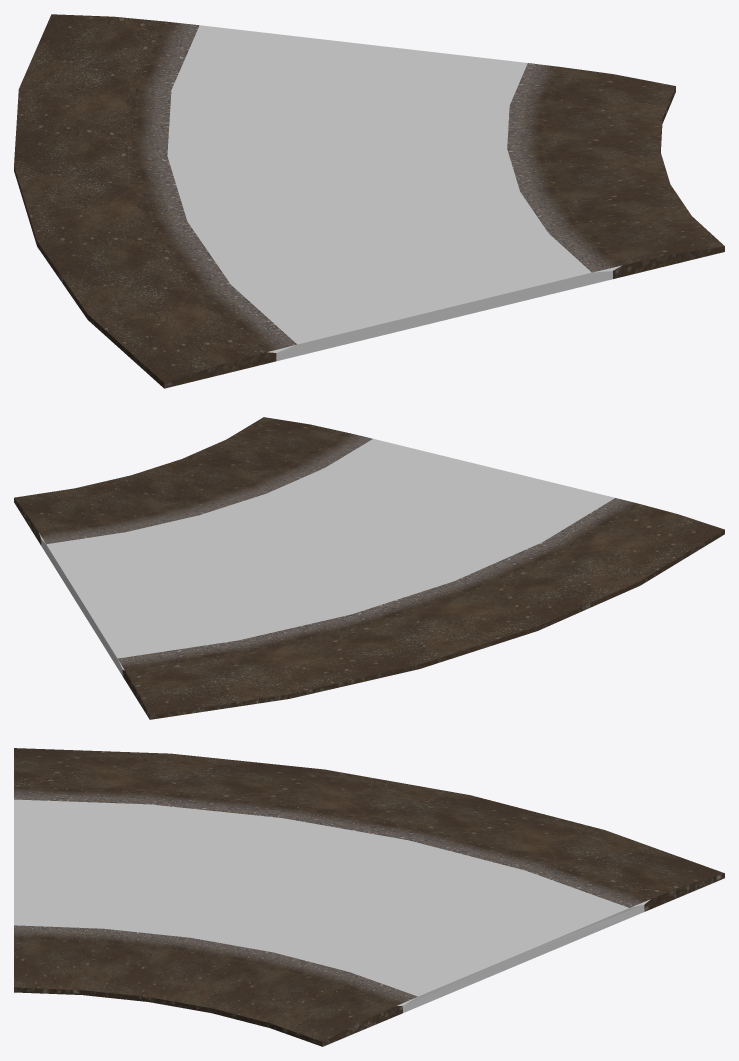
File: 45deg_gravel.obj
3 renders of one model, top to bottom at view 1: azimuth 30°, elevation 25°; view 2: azimuth 150°, elevation 25°; view 3: azimuth 270°, elevation 25°, orthographic. The views are drawn at different scales.
Visible parts, largest first — view 1: 45deg_gravel; view 2: 45deg_gravel; view 3: 45deg_gravel.
Part boxes in pixels (box(x1,y1,x2,y2)): 45deg_gravel: box(14, 14, 724, 388); 45deg_gravel: box(14, 417, 724, 719); 45deg_gravel: box(14, 748, 724, 1046).
Bounding box in the file's own units: 12.27 × 0.2 × 12.55.
